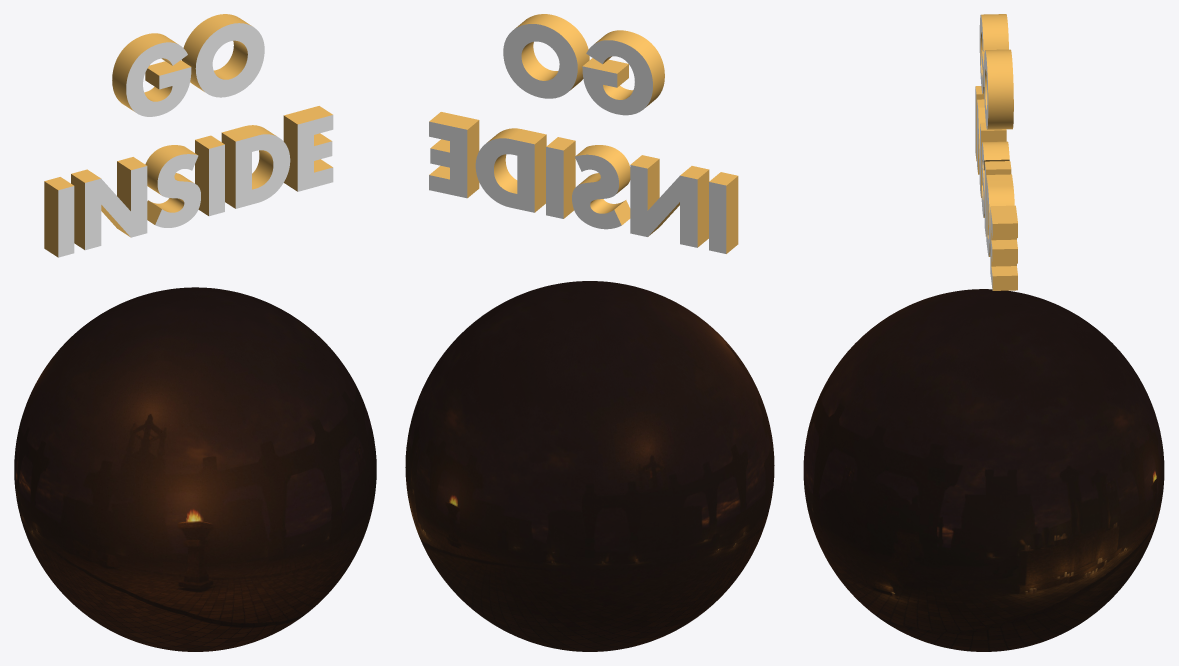
The model's file is zenit.glb.
3 views of the same model, side by side, from view 1: azimuth 30°, elevation 25°; view 2: azimuth 150°, elevation 25°; view 3: azimuth 270°, elevation 25° (orthographic). The views are drawn at different scales.
Visible parts, largest first — view 1: Innen, Text; view 2: Innen, Text; view 3: Innen, Text.
Part boxes in pixels (bbox=[...]): Innen: bbox=[14, 287, 376, 651]; Text: bbox=[44, 14, 333, 257]; Innen: bbox=[405, 281, 774, 651]; Text: bbox=[429, 14, 738, 253]; Innen: bbox=[803, 289, 1164, 651]; Text: bbox=[975, 14, 1017, 290].
Size of the model in its own units: 1.97 by 3.62 by 1.97.
Materials: 3 (1 with a texture image).
